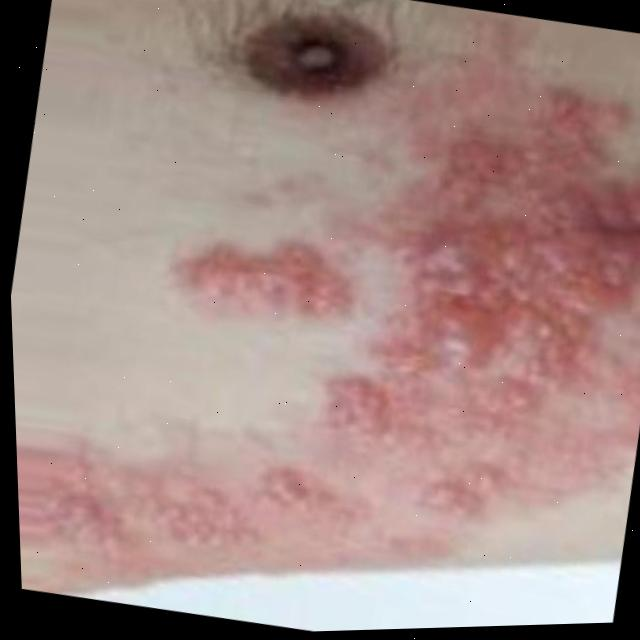Shingles: (52, 10, 640, 638)
